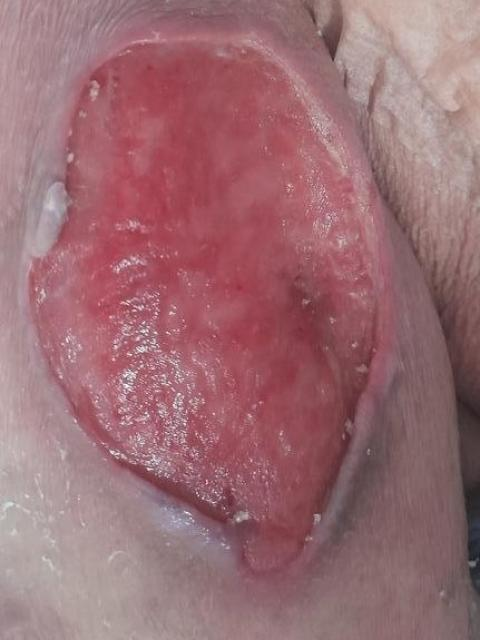wound: (27, 37, 382, 576)
